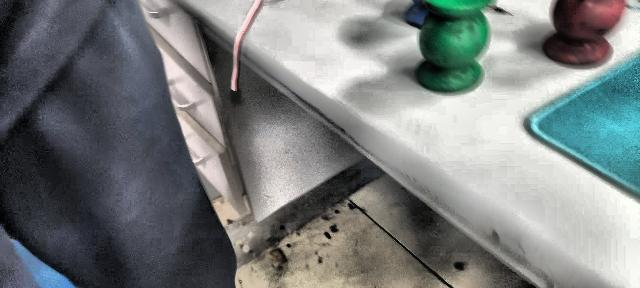green: (415, 0, 493, 92)
red: (545, 0, 637, 67)
